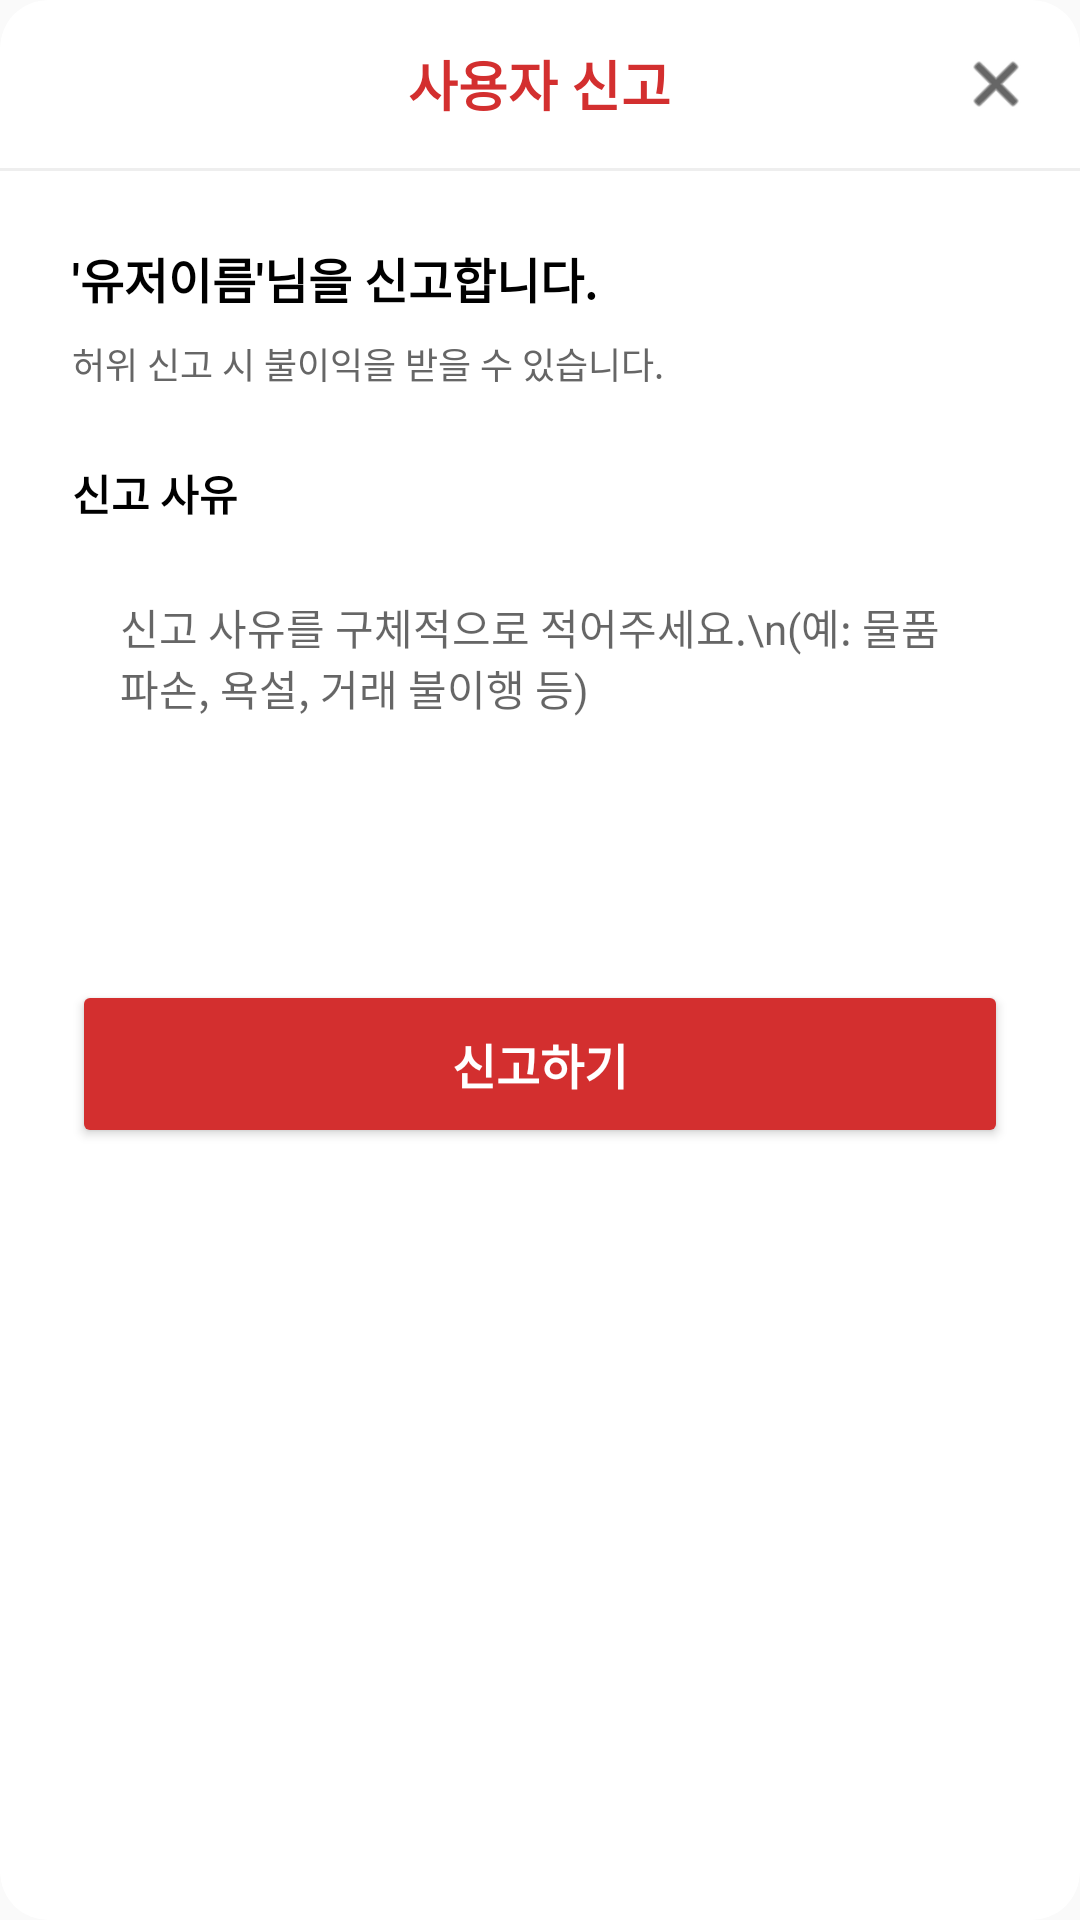

Named icons in this screenshot (1080px×1920px) and their centers, [x,y]:
close clear cancel: [996,84]
